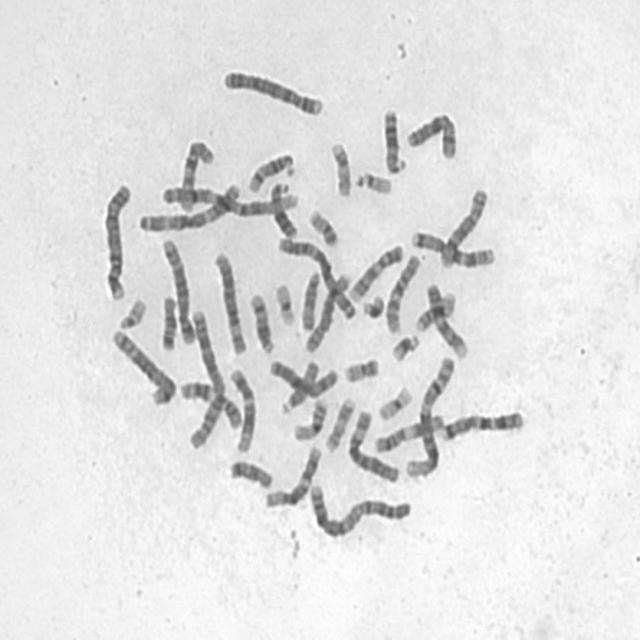A1: (402, 352, 458, 482), (158, 178, 300, 219)
A2: (303, 476, 414, 539), (182, 302, 227, 451)
A3: (273, 232, 359, 321), (134, 177, 242, 234)
B4: (218, 62, 326, 118), (98, 176, 134, 304)
B5: (106, 322, 178, 408), (157, 232, 196, 347)
C10: (381, 247, 422, 336), (174, 134, 216, 213)
C11: (174, 374, 243, 431), (370, 406, 447, 454)
C12: (260, 439, 323, 510), (225, 363, 258, 454)
C6: (342, 402, 402, 486), (209, 245, 249, 356)
C7: (406, 224, 498, 268), (433, 403, 527, 444)
C8: (434, 182, 490, 269), (300, 265, 353, 354)
C9: (344, 238, 406, 304), (421, 277, 470, 360)
D13: (264, 173, 300, 240), (378, 101, 408, 175)
D14: (243, 146, 297, 194), (244, 286, 276, 356)
D15: (277, 354, 321, 416), (296, 264, 322, 333)
E16: (410, 286, 458, 332), (288, 392, 330, 442)
E17: (321, 391, 356, 454), (325, 135, 353, 199)
E18: (225, 453, 275, 491), (156, 290, 178, 352)
F19: (373, 380, 415, 422), (270, 276, 298, 327)
F20: (304, 202, 341, 248), (339, 350, 382, 384)
G21: (386, 327, 422, 364), (357, 288, 386, 320)
G22: (113, 292, 148, 331), (351, 165, 394, 196)
X: (264, 354, 340, 399), (401, 106, 460, 161)
